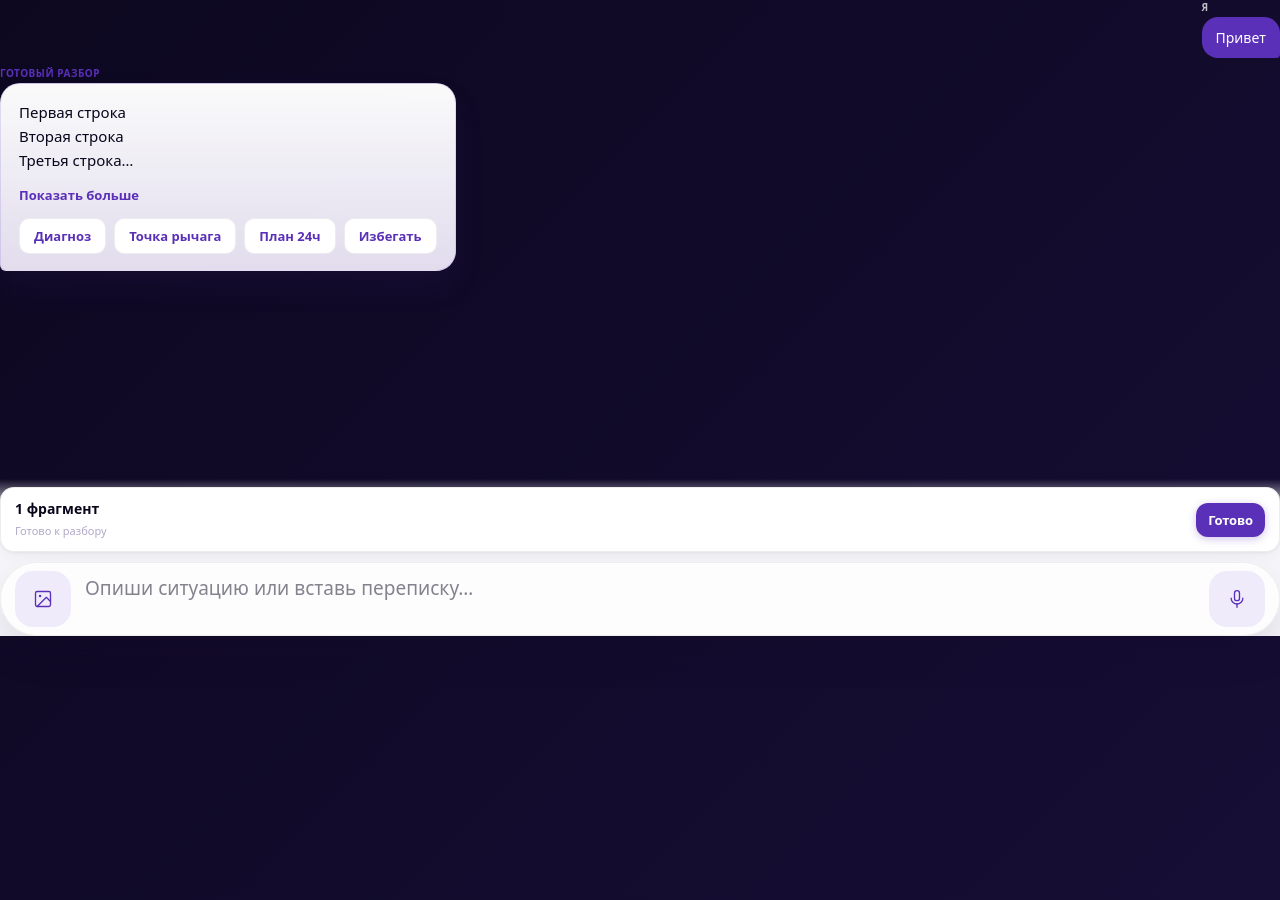
Test case: ChatScreen renders result bubble with expandable text
This screenshot has width=1280, height=900.
Expected: the button "Показать больше" is shown, [19,186,139,204]
Click the button "Диагноз".
click(63, 236)  # box [19,218,106,254]
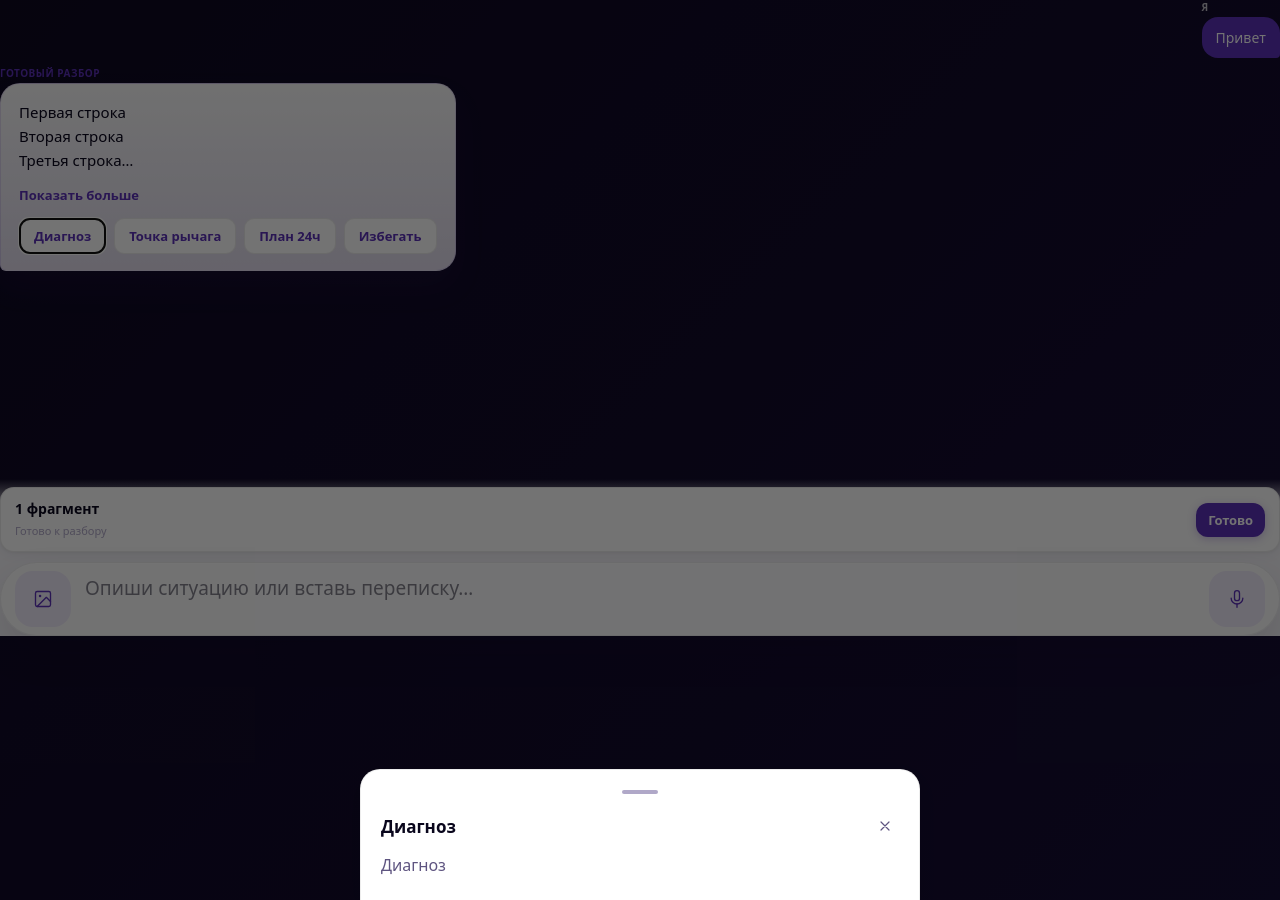
Expected: the heading "Диагноз" is shown, [381,814,456,838]
